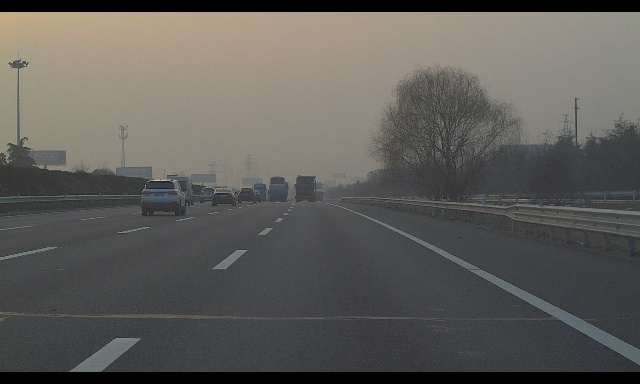bus: (269, 176, 286, 202), (254, 183, 267, 201)
car: (141, 179, 187, 216), (168, 176, 194, 205), (211, 188, 237, 206), (238, 187, 257, 204), (200, 187, 215, 203), (251, 190, 262, 202)
truck: (294, 175, 316, 202), (275, 182, 288, 201), (315, 191, 323, 202)
